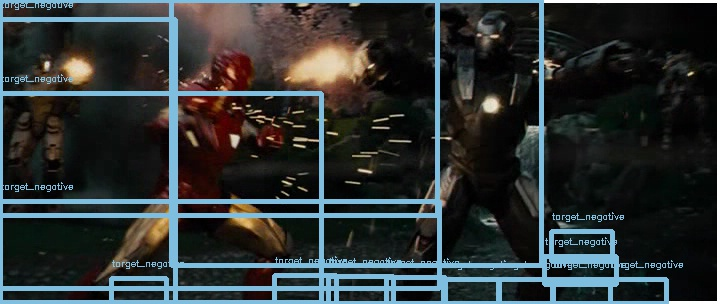person: (207, 46, 251, 109), (206, 46, 250, 109), (208, 46, 252, 109), (207, 45, 251, 108), (207, 47, 251, 110)
target_negative: (21, 29, 551, 127), (382, 87, 569, 113), (559, 137, 615, 181), (609, 40, 625, 159), (410, 284, 524, 294), (439, 287, 563, 288)
